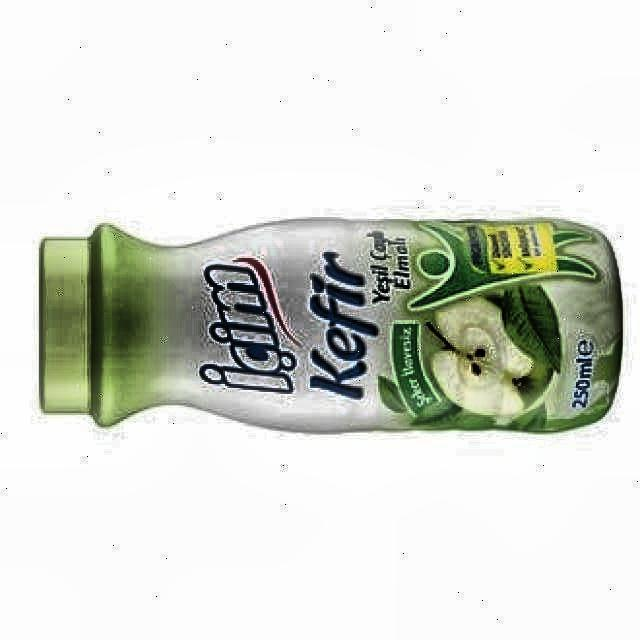plastic: (40, 218, 622, 431)
